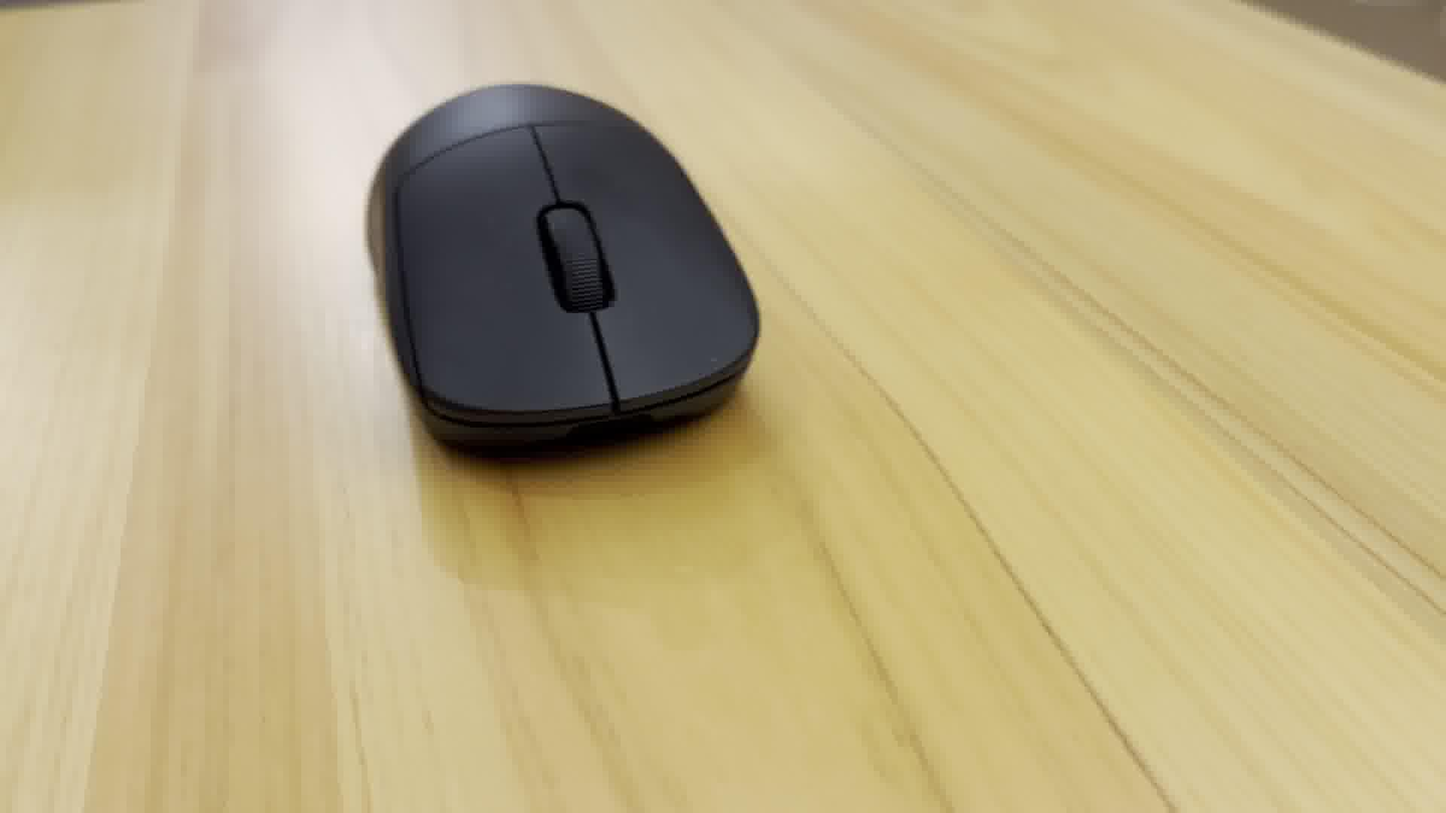mouse: (362, 71, 767, 484)
